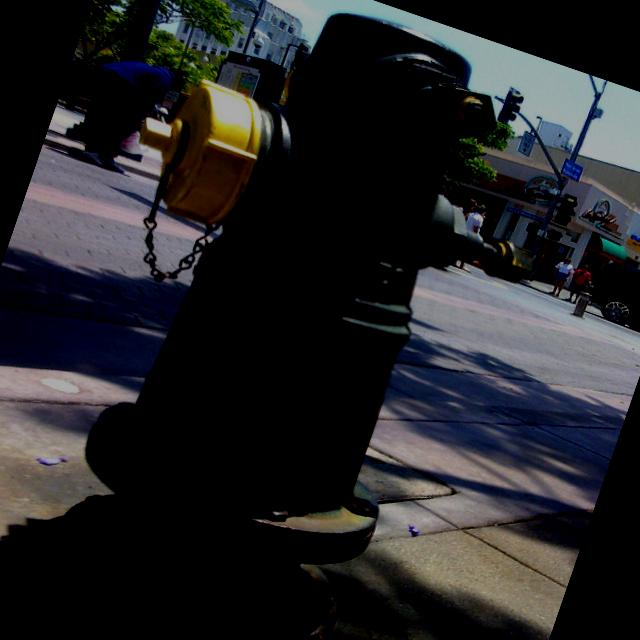Vehicle: (581, 254, 640, 335)
